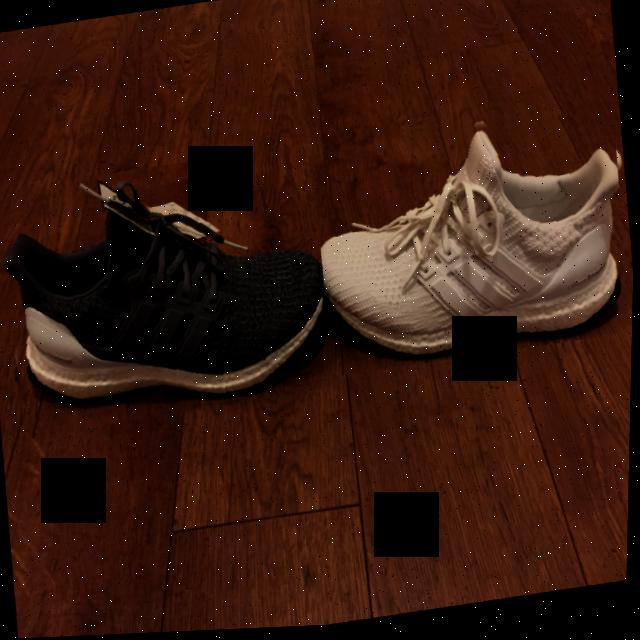shoe: (0, 144, 338, 442), (299, 97, 638, 382)
